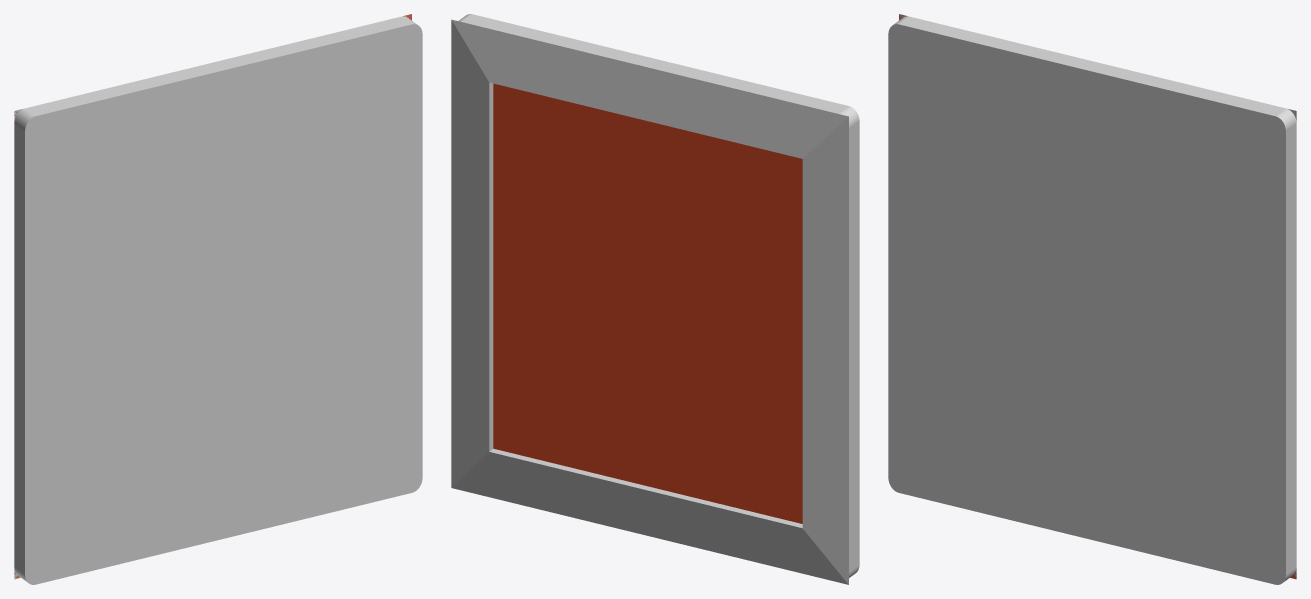
The model's file is frame.fbx.
3 renders of one model, left to right at view 1: azimuth 30°, elevation 25°; view 2: azimuth 150°, elevation 25°; view 3: azimuth 330°, elevation 25°, orthographic.
Visible parts, largest first — view 1: Cube.002; view 2: Cube.002; view 3: Cube.002.
Boxes of the visible parts, x1,y1,x2,y2 form: Cube.002: (14,14,422,584); Cube.002: (451,14,859,584); Cube.002: (888,14,1296,584).
Bounding box in the file's own units: 223 × 251 × 14.51.
